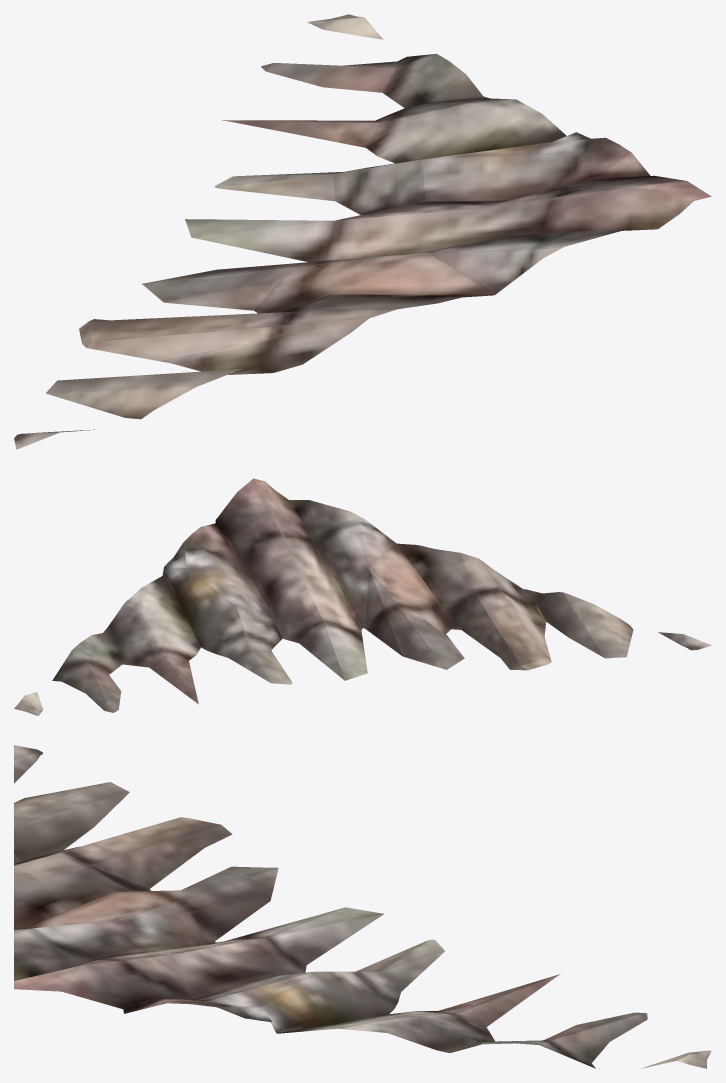
The picture shows the model from 3 angles, top to bottom: view 1: azimuth 30°, elevation 25°; view 2: azimuth 150°, elevation 25°; view 3: azimuth 270°, elevation 25°; orthographic projection. The views are drawn at different scales.
Bounding box in the file's own units: 1.27 × 0.1462 × 1.16.
1 material, 1 textured.
